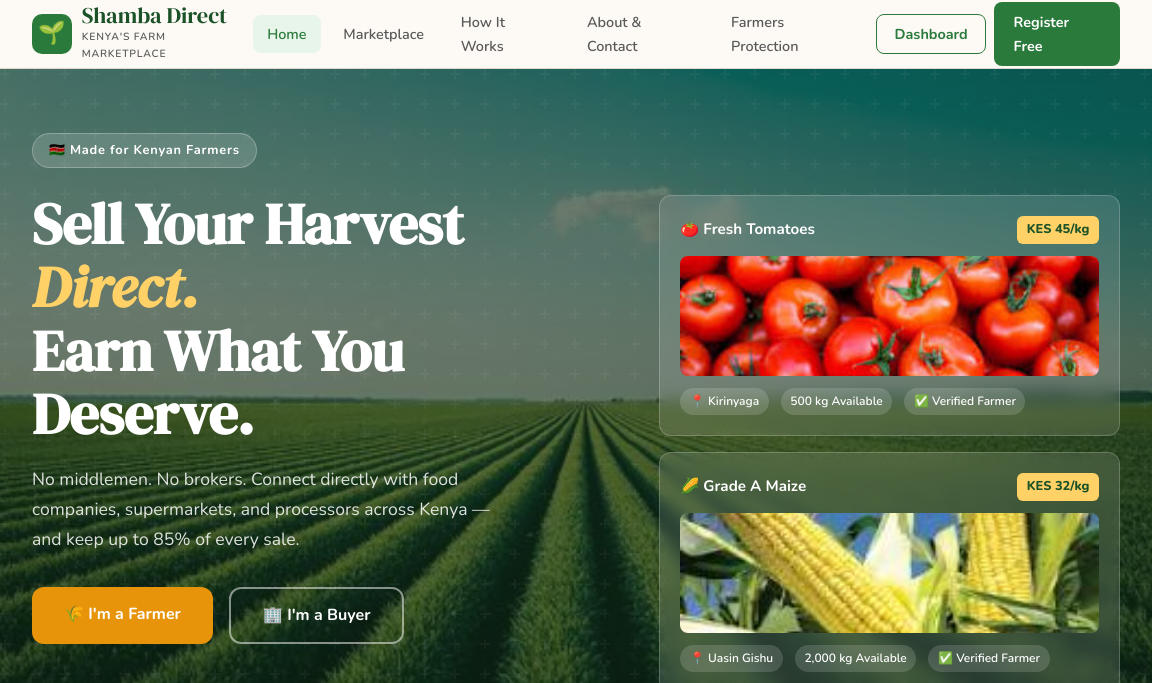
opens the farmer protection page from the navigation
The width and height of the screenshot is (1152, 683).
Click the link "Farmers Protection". click: [765, 34]
box: top-left (731, 12), bottom-right (798, 56)
(page scrolled)
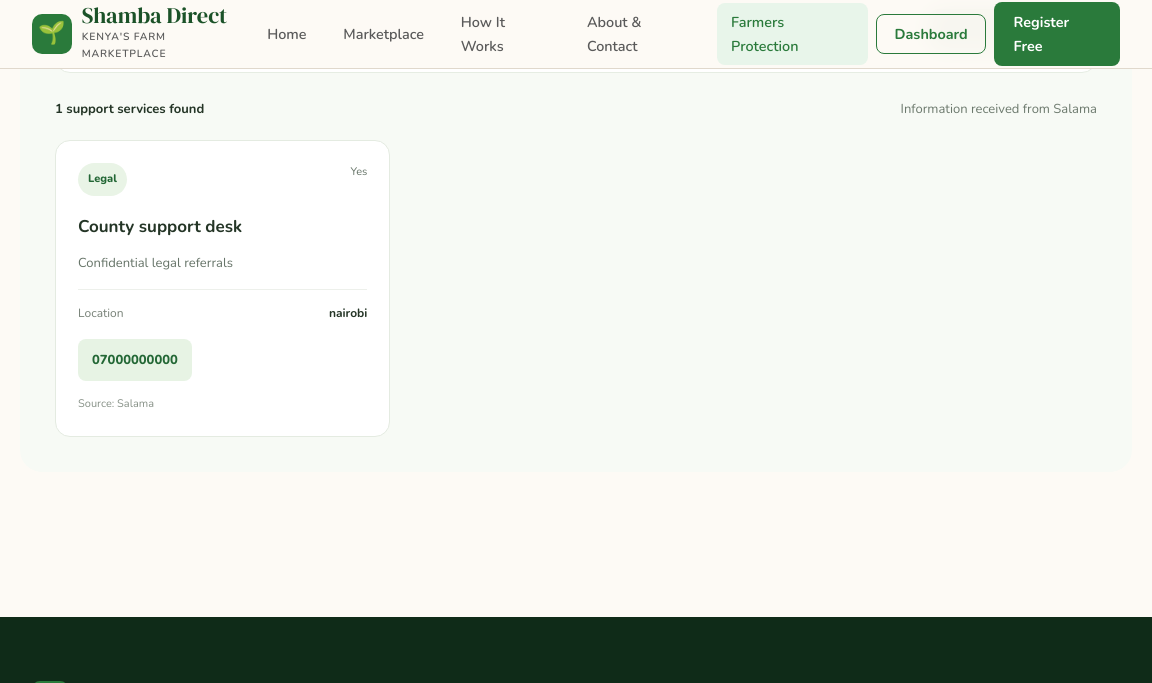
Check: the heading "County support desk" is shown, box top-left (78, 215), bottom-right (242, 238)
